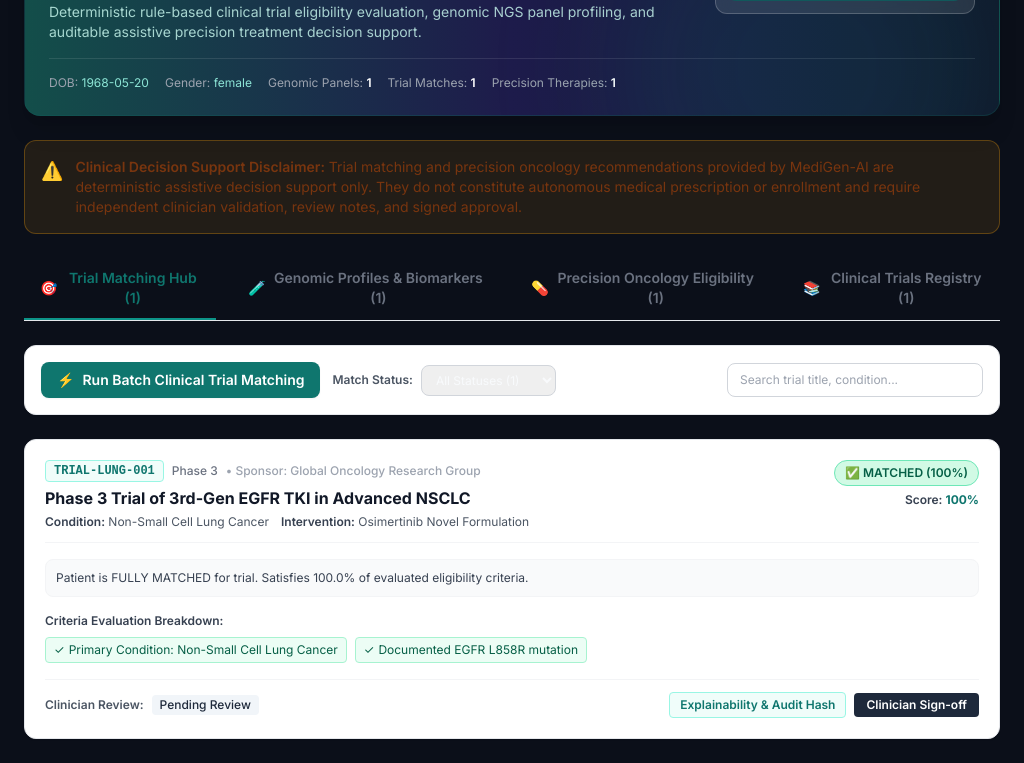
Test case: Phase 9.0.16: TrialsPrecisionWorkspace Component › opens explainability modal and displays cryptographic SHA-256 audit provenance hash
This screenshot has width=1024, height=763.
(page scrolled)
Step 1. Click the button with test id "btn-evidence-TRIAL-LUNG-001" → click(758, 705), box [669,692,846,718]
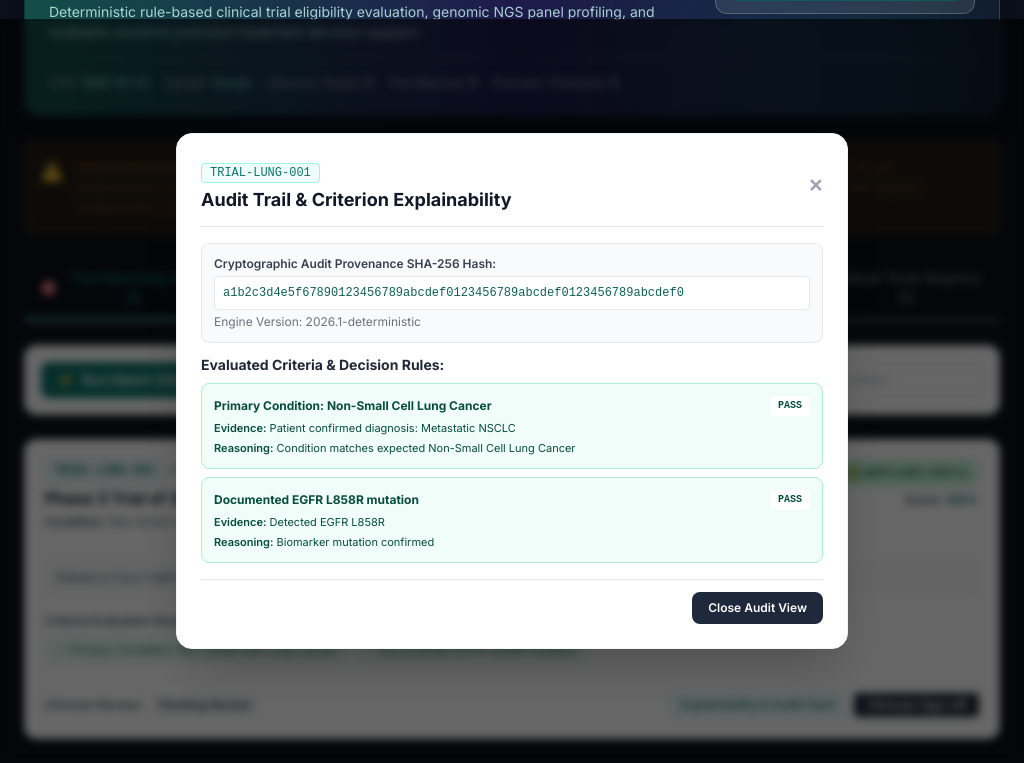
Result: the element with test id "evidence-modal" is shown
Result: the heading "Audit Trail & Criterion Explainability" is shown at [201,186,512,214]
Result: the text "a1b2c3d4e5f67890123456789abcdef0123456789abcdef0123456789abcdef0" is shown at [214,276,810,310]
